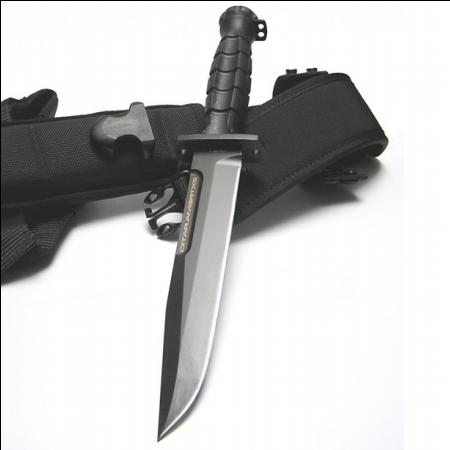long weapon: (152, 140, 244, 447)
